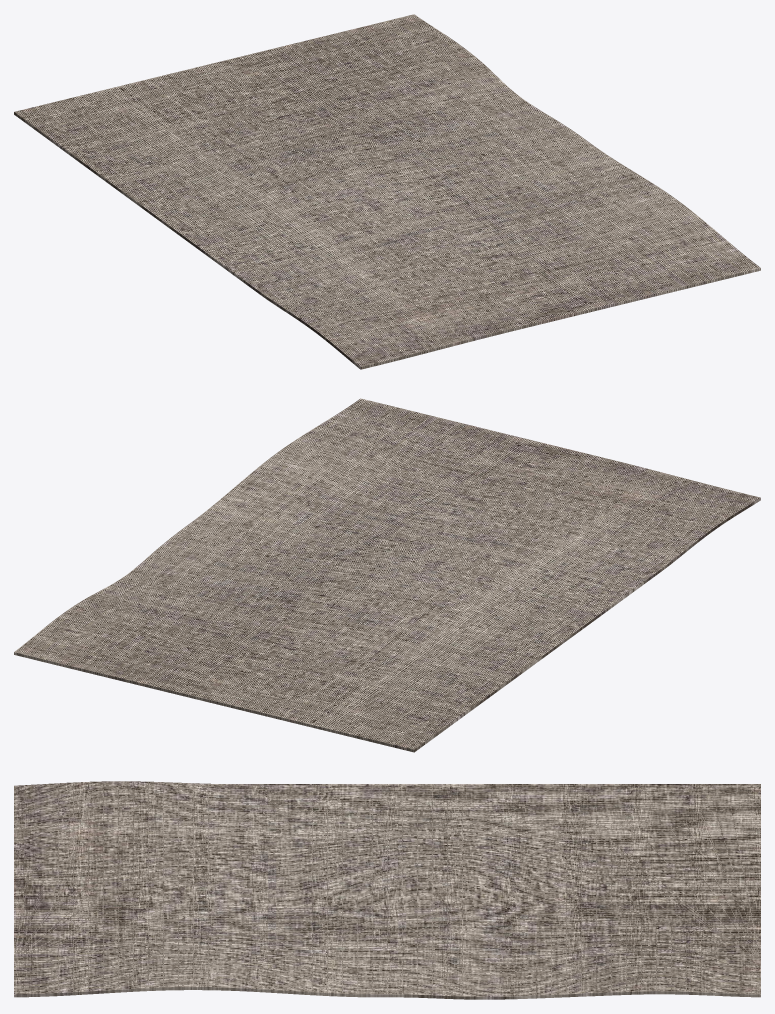
Rendered from 21718_black_dots_kilim_rug.glb.
3 views of the same model, one above another, from view 1: azimuth 30°, elevation 25°; view 2: azimuth 150°, elevation 25°; view 3: azimuth 270°, elevation 25° (orthographic). The views are drawn at different scales.
Visible parts, largest first — view 1: Component; view 2: Component; view 3: Component.
Boxes of the visible parts, x1,y1,x2,y2 form: Component: (14, 14, 760, 369); Component: (14, 398, 760, 752); Component: (14, 781, 760, 999).
Bounding box in the file's own units: 2 × 0.0589 × 3.
Materials: 1 (1 with a texture image).
